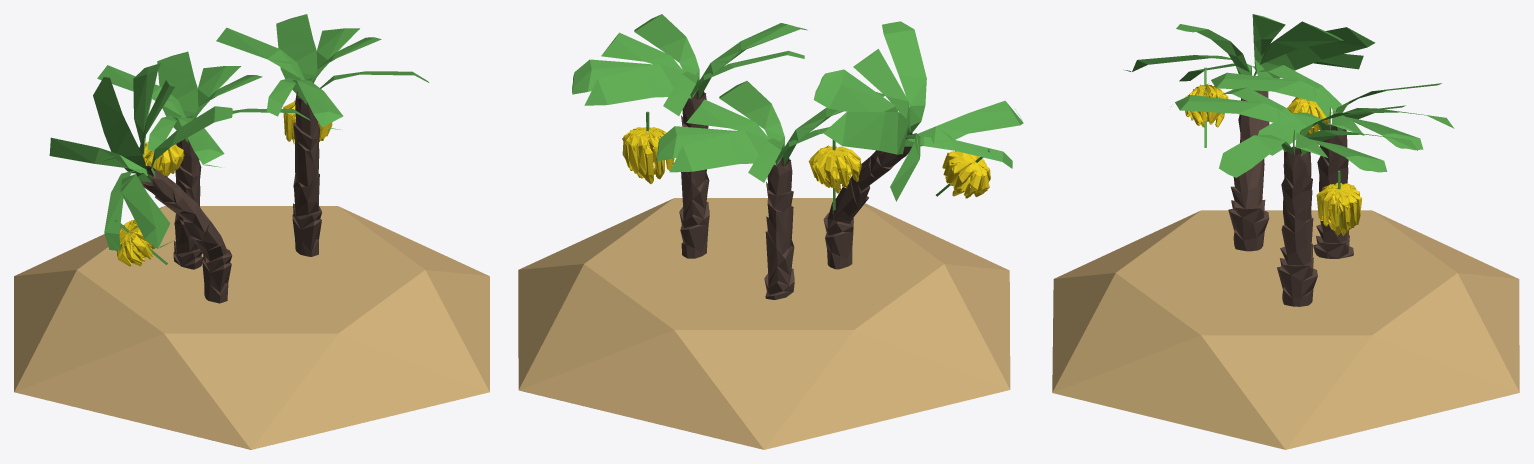
File: Insel2.fbx
The picture shows the model from 3 angles, left to right: view 1: azimuth 30°, elevation 25°; view 2: azimuth 150°, elevation 25°; view 3: azimuth 270°, elevation 25°; orthographic projection. The views are drawn at different scales.
Parts seen in each view (by area): view 1: Landschaft, Blätter, Blätter_6, Blätter_4, Stamm_6, Stamm, Stamm_4, Banane_2, Banane_1, Banane; view 2: Landschaft, Blätter, Blätter_6, Blätter_4, Stamm_4, Stamm, Stamm_6, Banane, Banane_1, Banane_2; view 3: Landschaft, Blätter, Blätter_6, Blätter_4, Stamm_6, Stamm, Stamm_4, Banane, Banane_2, Banane_1.
Part boxes in pixels (x1,y1,x2,y2): Landschaft: (14, 206, 489, 449); Blätter: (49, 63, 232, 250); Blätter_6: (216, 14, 428, 130); Blätter_4: (97, 51, 310, 167); Stamm_6: (292, 91, 321, 256); Stamm: (138, 166, 232, 303); Stamm_4: (173, 139, 202, 269); Banane_2: (115, 219, 155, 266); Banane_1: (139, 142, 184, 176); Banane: (283, 100, 332, 144); Landschaft: (518, 198, 1010, 449); Blätter: (813, 21, 1023, 201); Blätter_6: (572, 14, 807, 115); Blätter_4: (657, 81, 884, 182); Stamm_4: (764, 156, 794, 299); Stamm: (823, 132, 912, 269); Stamm_6: (679, 90, 709, 258); Banane: (622, 127, 674, 183); Banane_1: (808, 145, 861, 193); Banane_2: (942, 151, 990, 198); Landschaft: (1052, 210, 1519, 449); Blätter: (1123, 14, 1375, 81); Blätter_6: (1171, 87, 1417, 177); Blätter_4: (1208, 65, 1454, 155); Stamm_6: (1277, 146, 1317, 306); Stamm: (1228, 90, 1269, 251); Stamm_4: (1313, 124, 1353, 258); Banane: (1316, 182, 1362, 235); Banane_2: (1185, 84, 1228, 127); Banane_1: (1287, 97, 1331, 135).
Size of the model in its own units: 3506 by 1990 by 3040.
Materials: 4 (3 with a texture image).
